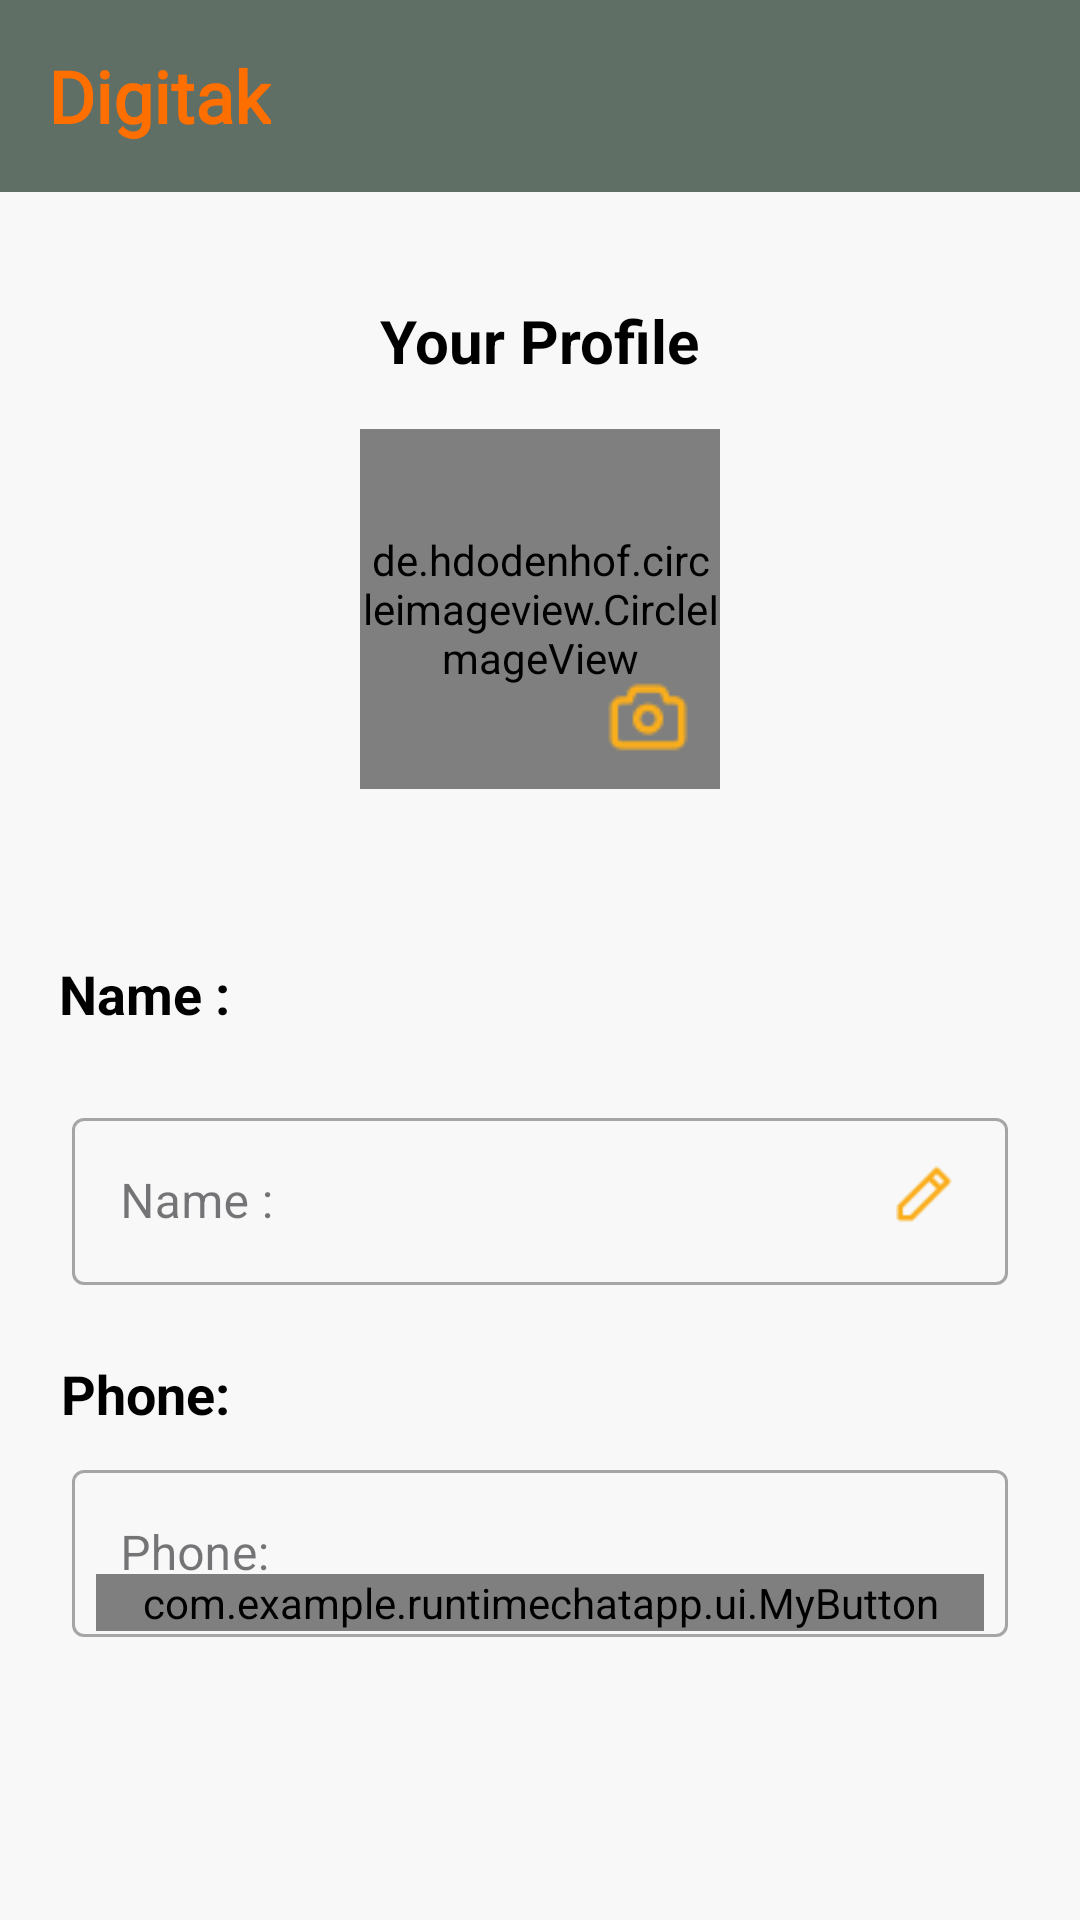

Icons on this 1080px×1920px Android screen, each with the point to tap as (x,y):
camera: (648,717)
edit: (924,1194)
